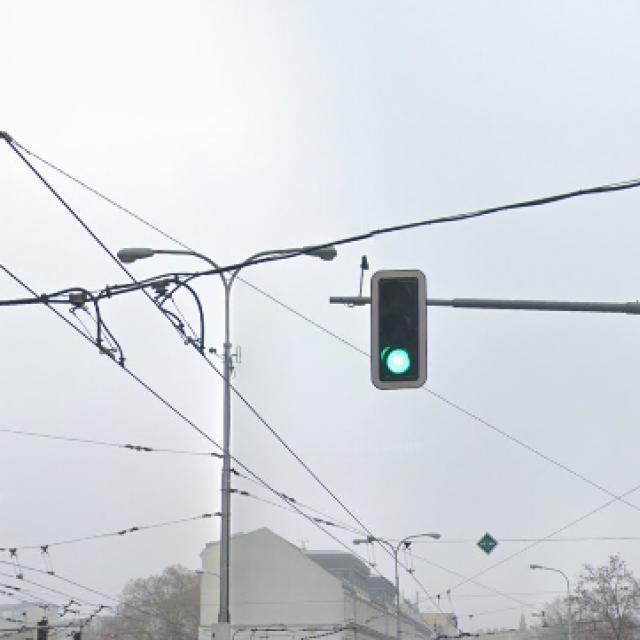green_light: (370, 269, 428, 389)
